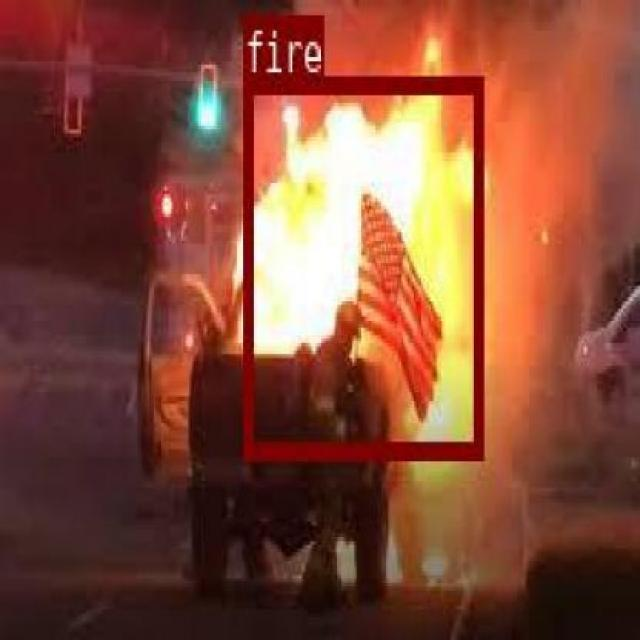Fire: (242, 73, 481, 456)
